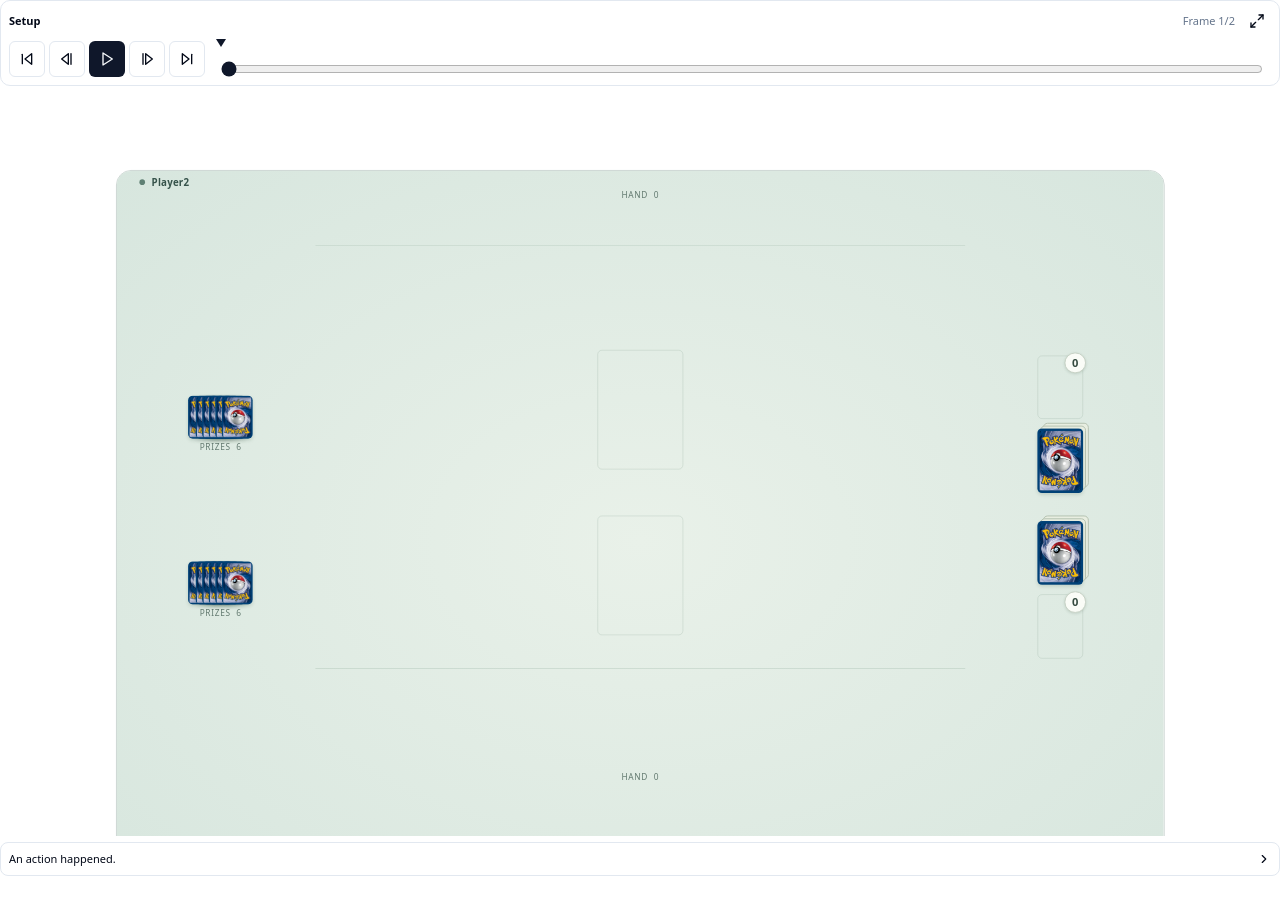
Test: opens action details in an overlay and pauses playback while reading
This screenshot has width=1280, height=900.
Click the button named "Play" at (107, 59), box top-left (89, 41), bottom-right (125, 77)
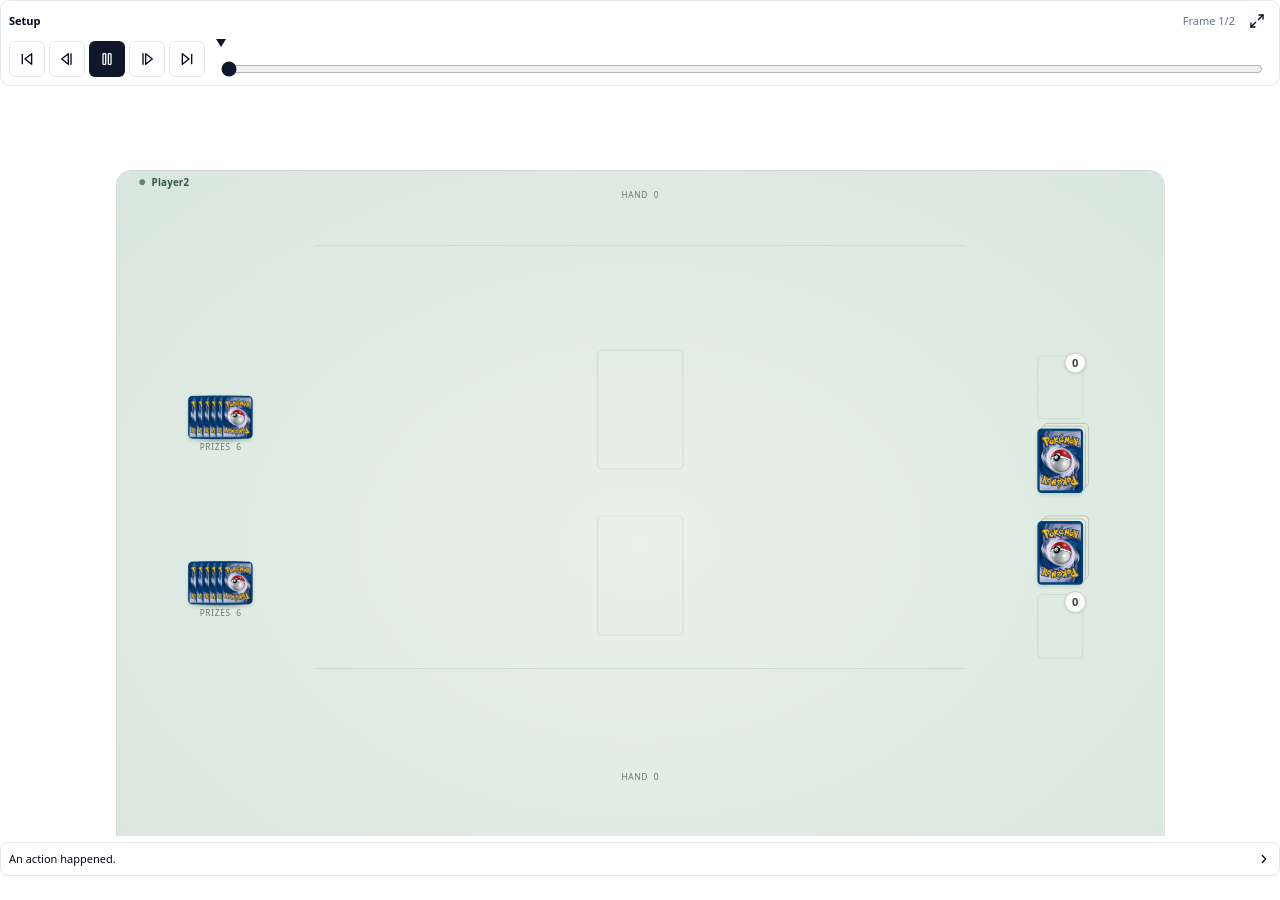
Expected: the button named "Pause" is shown, top-left (89, 41), bottom-right (125, 77)
Click the button with aria-label "Action details" at (45, 866), box top-left (0, 842), bottom-right (1279, 876)
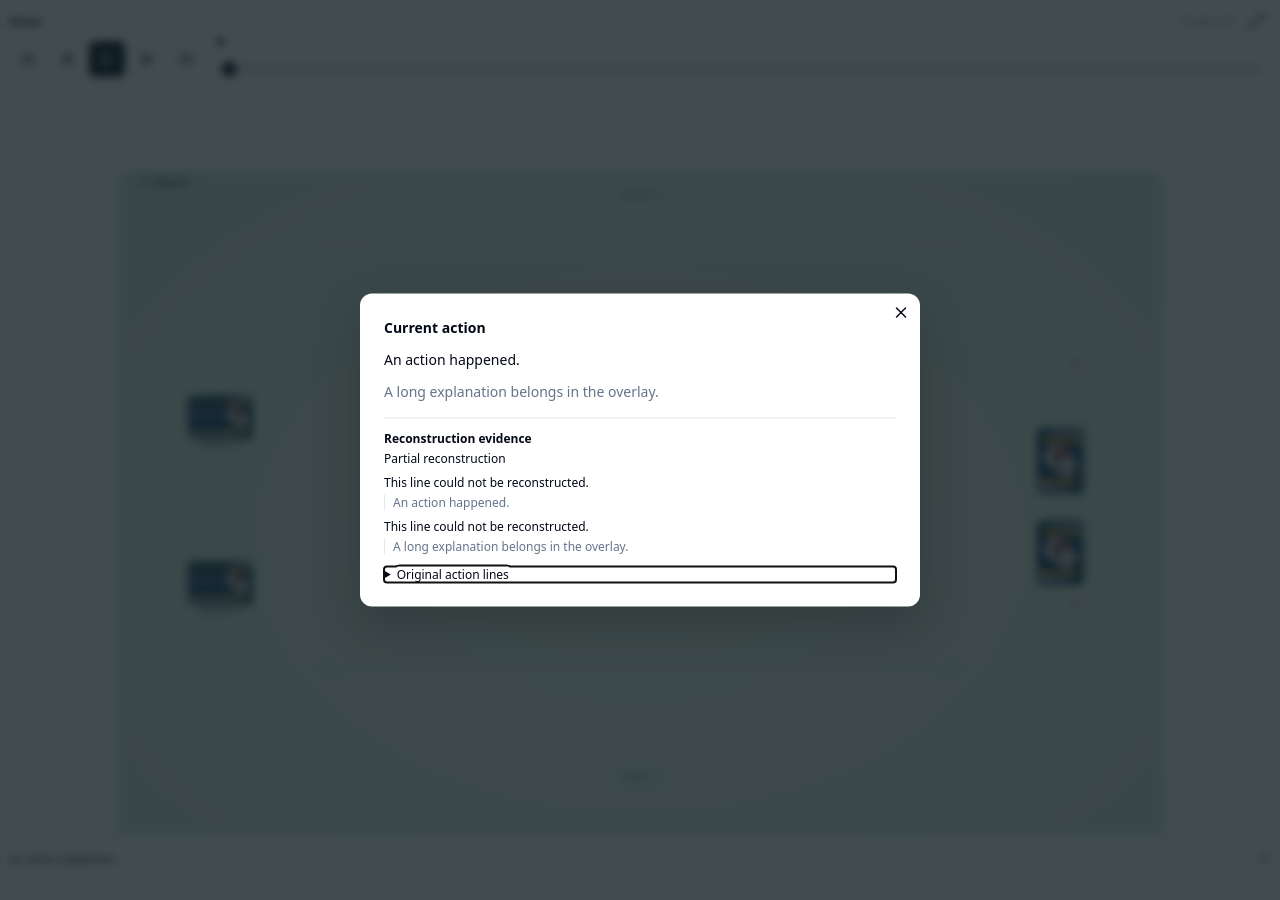
Expected: the 1st text "A long explanation belongs in the overlay." is shown, top-left (384, 382), bottom-right (659, 400)
Click the button named "Close" at (901, 312), box top-left (892, 304), bottom-right (910, 322)
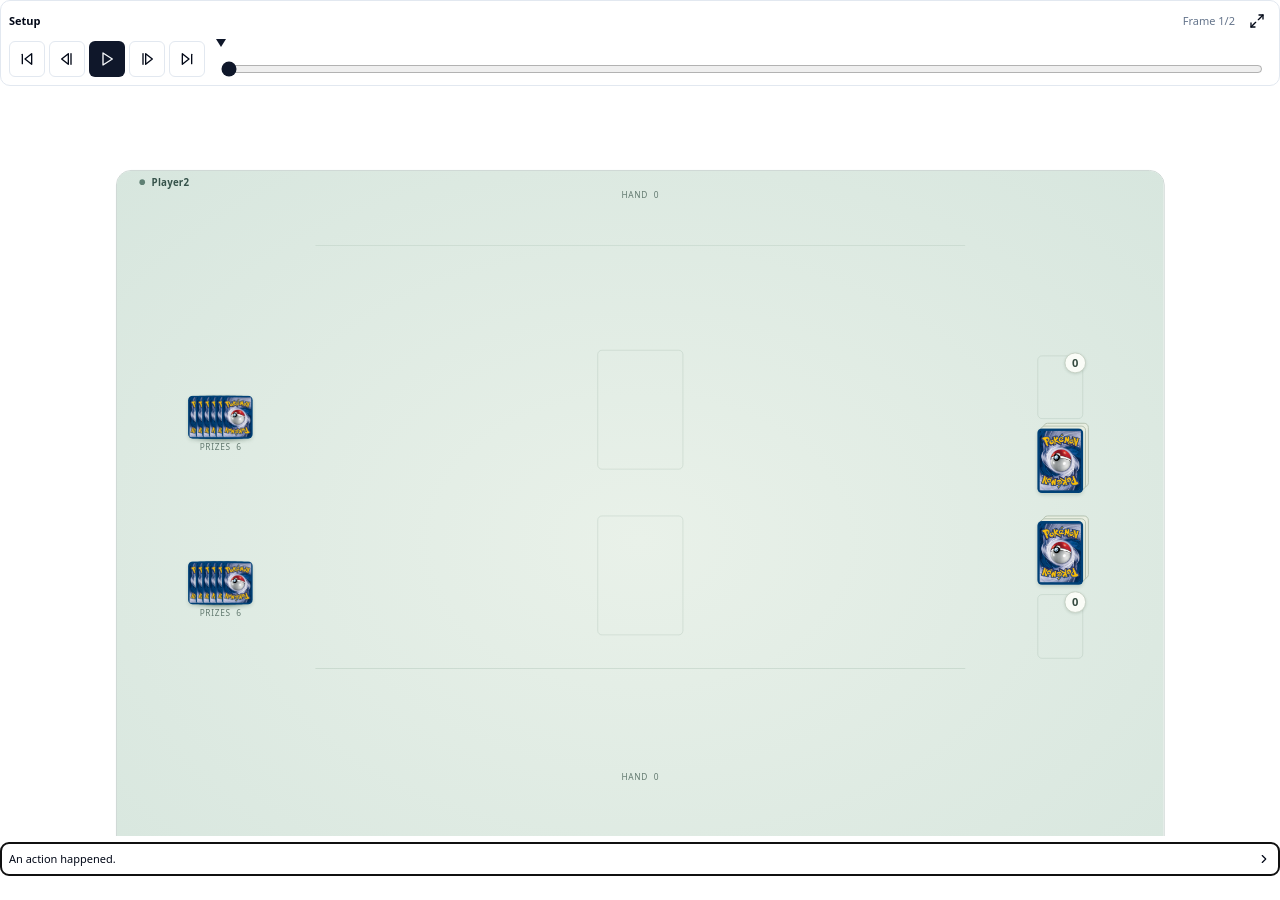
Expected: the button named "Play" is shown, top-left (89, 41), bottom-right (125, 77)
Expected: the dialog is gone
